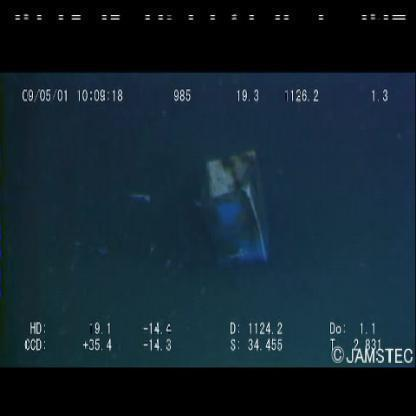Rác: (195, 148, 272, 272)
